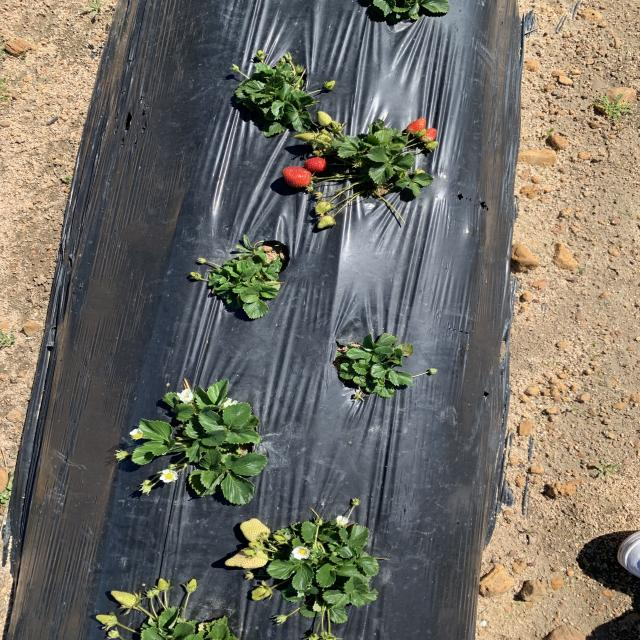unripe: (282, 166, 312, 188), (302, 156, 326, 172), (408, 117, 428, 134), (421, 126, 438, 142)
